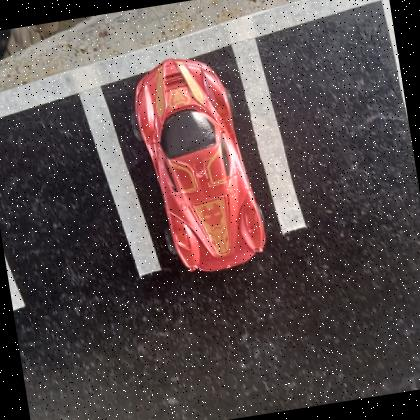Car: (134, 57, 266, 271)
